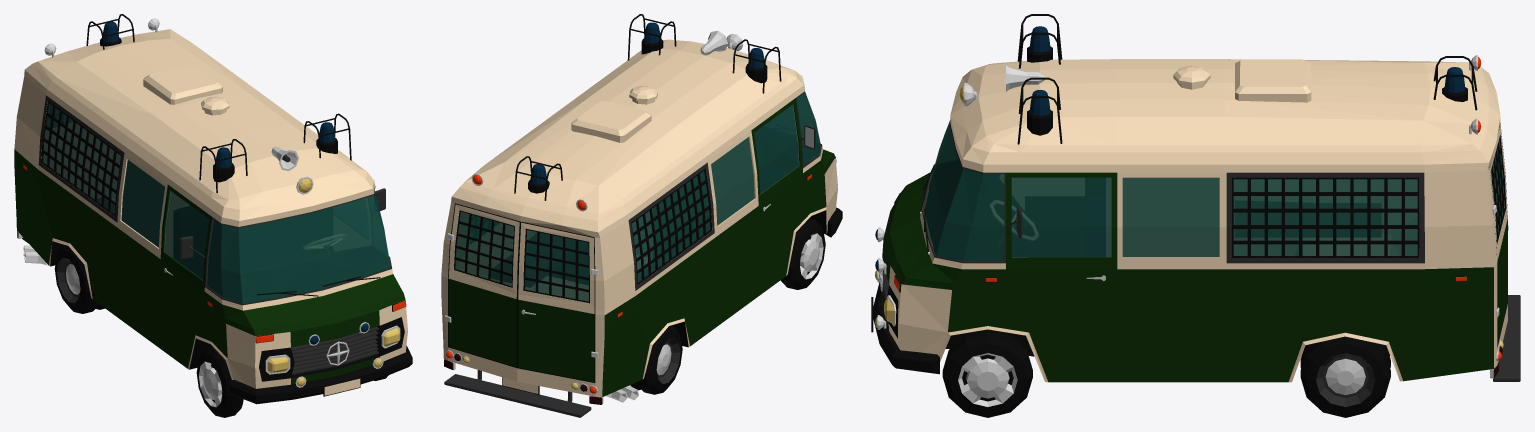
Rendered from PoliceVan_01.FBX.
The picture shows the model from 3 angles, left to right: view 1: azimuth 30°, elevation 25°; view 2: azimuth 150°, elevation 25°; view 3: azimuth 270°, elevation 25°; orthographic projection. The views are drawn at different scales.
Parts seen in each view (by area): view 1: PoliceVan_01, interior, bumper_f, grill, wheel_f_r, wheels_b_r, lights, headLights, signalLights_02, horn, licensePlate_f; view 2: PoliceVan_01, interior, wheel_f_r, wheels_b_r, lights, signalLights_02, horn; view 3: PoliceVan_01, interior, wheel_f_l, wheels_b_l, lights, bumper_f, signalLights_02.
Part boxes in pixels (x1=…): PoliceVan_01: x1=14, y1=14, x2=407, y2=388; interior: x1=43, y1=104, x2=390, y2=303; bumper_f: x1=229, y1=346, x2=412, y2=404; grill: x1=291, y1=327, x2=378, y2=374; wheel_f_r: x1=196, y1=347, x2=243, y2=417; wheels_b_r: x1=54, y1=245, x2=104, y2=313; lights: x1=17, y1=18, x2=405, y2=387; headLights: x1=267, y1=178, x2=399, y2=386; signalLights_02: x1=103, y1=21, x2=335, y2=344; horn: x1=271, y1=146, x2=298, y2=170; licensePlate_f: x1=323, y1=377, x2=360, y2=396; PoliceVan_01: x1=441, y1=14, x2=837, y2=417; interior: x1=455, y1=93, x2=819, y2=301; wheel_f_r: x1=780, y1=218, x2=825, y2=289; wheels_b_r: x1=630, y1=325, x2=682, y2=394; lights: x1=445, y1=33, x2=836, y2=404; signalLights_02: x1=530, y1=22, x2=660, y2=184; horn: x1=700, y1=30, x2=728, y2=55; PoliceVan_01: x1=881, y1=14, x2=1520, y2=382; interior: x1=925, y1=123, x2=1504, y2=260; wheel_f_l: x1=942, y1=329, x2=1032, y2=417; wheels_b_l: x1=1300, y1=336, x2=1390, y2=417; lights: x1=877, y1=46, x2=1500, y2=378; bumper_f: x1=873, y1=282, x2=939, y2=374; signalLights_02: x1=875, y1=67, x2=1465, y2=239.
Size of the model in its own units: 27.23 by 31.46 by 59.07.
